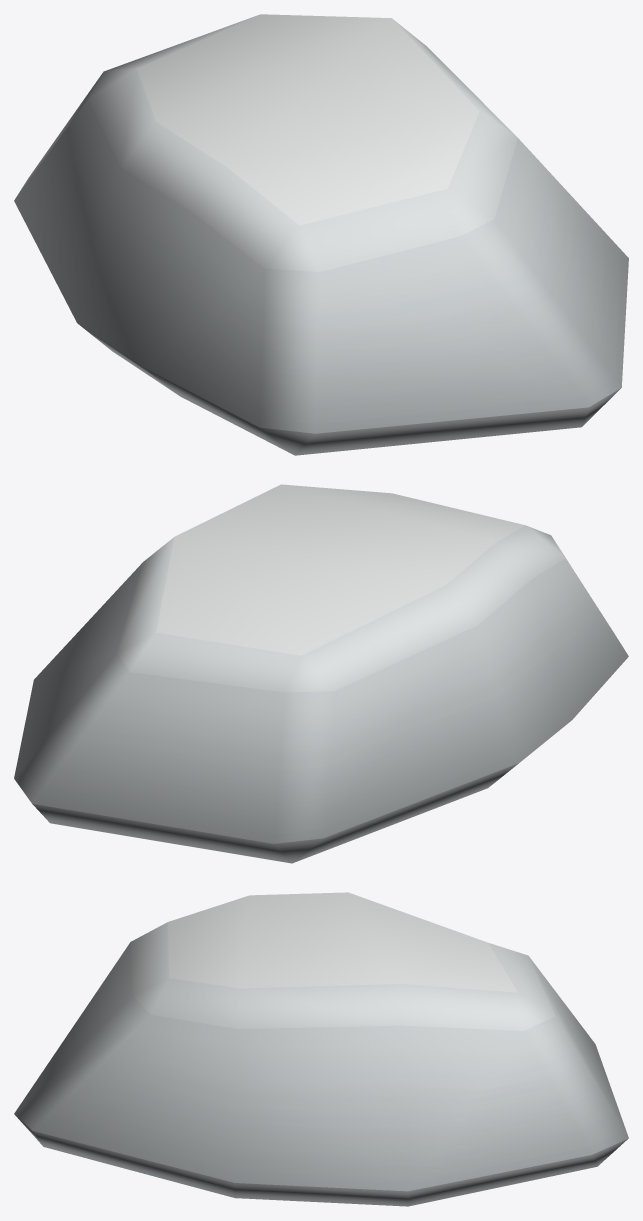
The model's file is rock_snow_03.fbx.
The picture shows the model from 3 angles, top to bottom: view 1: azimuth 30°, elevation 25°; view 2: azimuth 150°, elevation 25°; view 3: azimuth 270°, elevation 25°; orthographic projection. The views are drawn at different scales.
Visible parts, largest first — view 1: rock_snow_03; view 2: rock_snow_03; view 3: rock_snow_03.
Boxes of the visible parts, x1,y1,x2,y2 form: rock_snow_03: (14, 14, 628, 455); rock_snow_03: (14, 484, 628, 863); rock_snow_03: (14, 892, 628, 1206).
Bounding box in the file's own units: 76.38 × 33.45 × 105.
